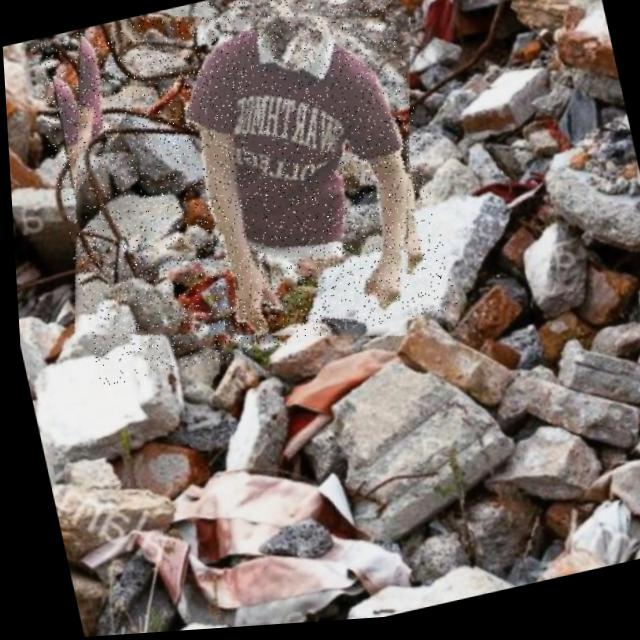Person in Rubble: (23, 0, 455, 392)
